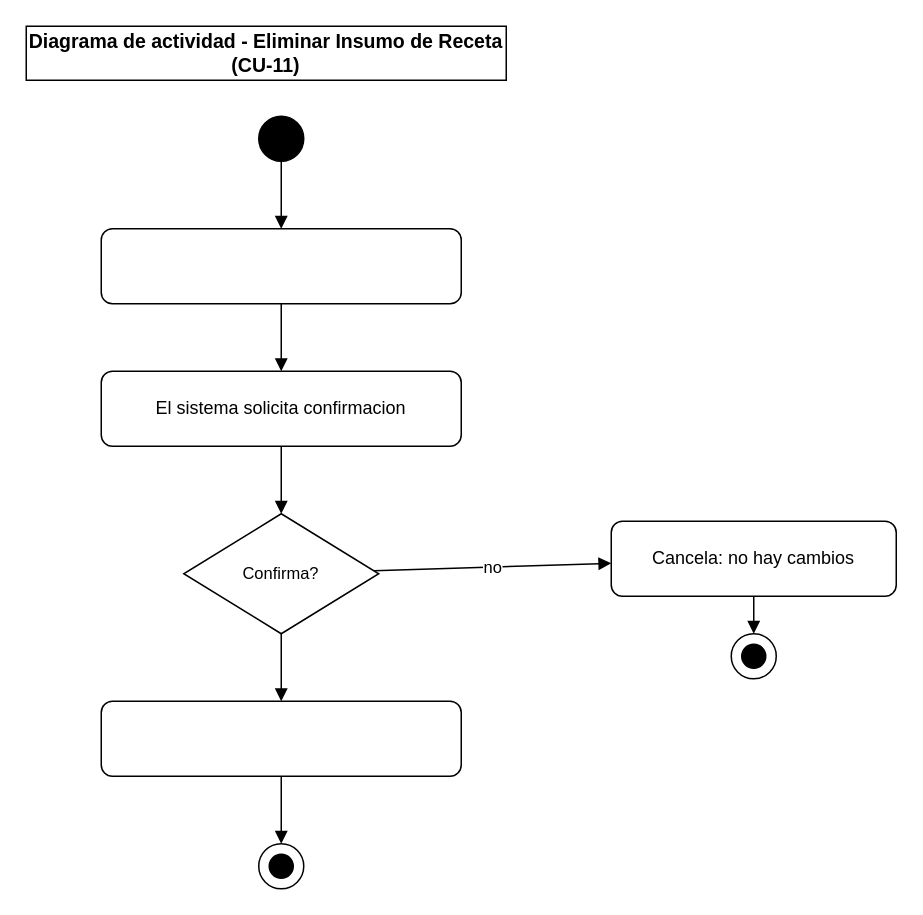
Some shapes in this 923 by 915 pixel diagram are drawn without their labels. Here are the shapes that lost their labels. From the top down, the box of each, then its label:
(100, 227, 461, 304): Pulsa "Eliminar" en la fila del insumo
(100, 700, 461, 776): Quita la linea de la receta
